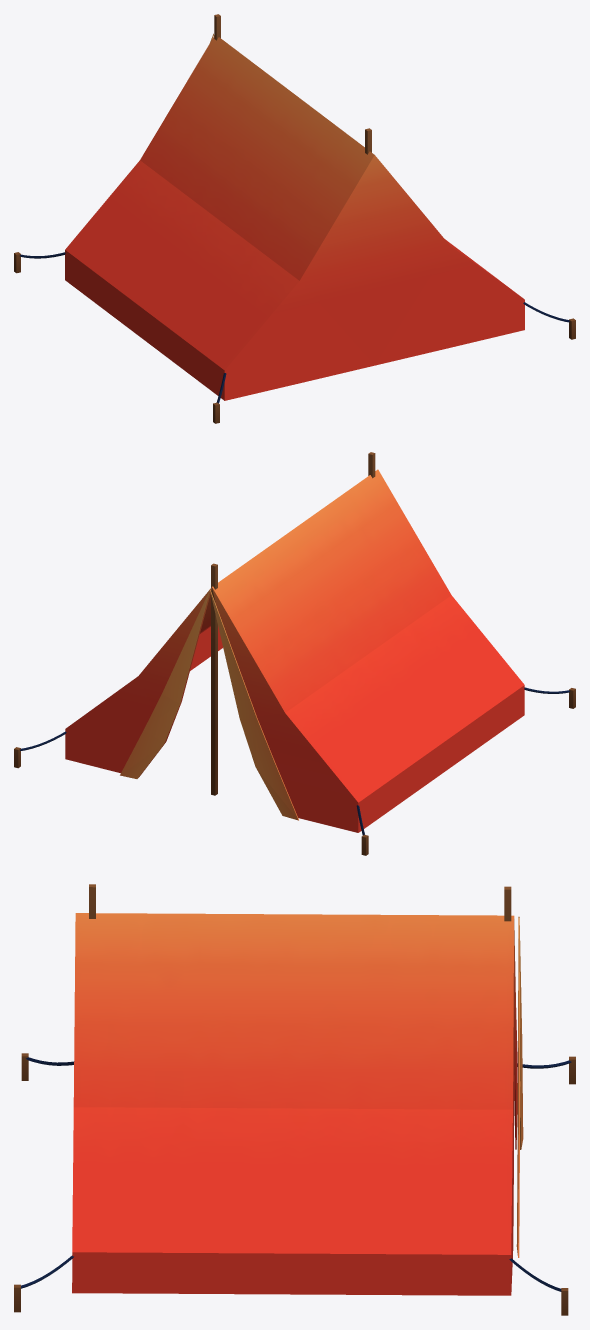
Rendered from Camp.FBX.
3 views of the same model, one above another, from view 1: azimuth 30°, elevation 25°; view 2: azimuth 150°, elevation 25°; view 3: azimuth 270°, elevation 25° (orthographic). The views are drawn at different scales.
Parts seen in each view (by area): view 1: Object001; view 2: Object001; view 3: Object001.
Part boxes in pixels (box(x1,y1,x2,y2)): Object001: box(14, 14, 575, 423); Object001: box(14, 452, 575, 855); Object001: box(14, 884, 575, 1315).
Size of the model in its own units: 120 by 72.8 by 120.
